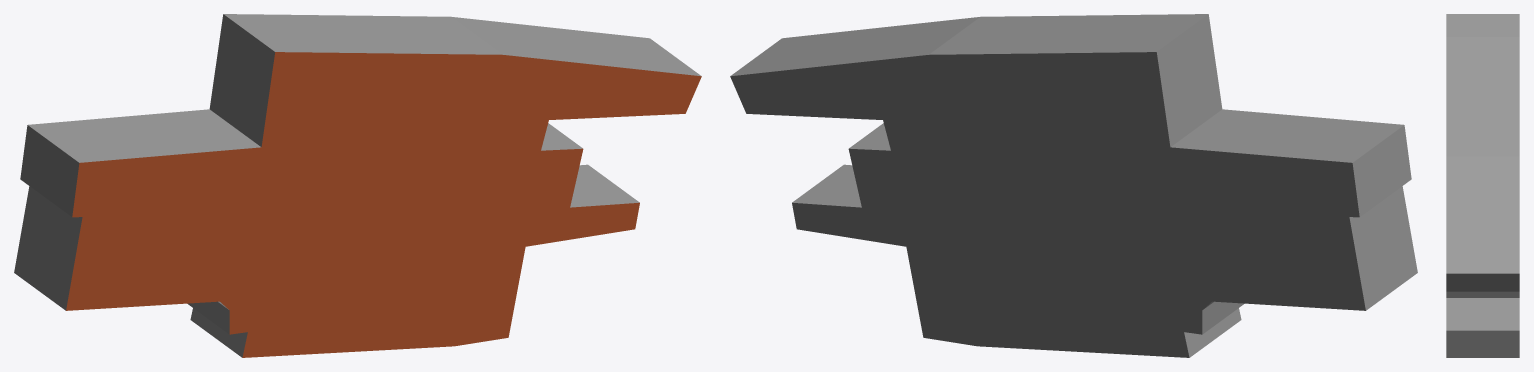
File: construction_3877_assumed_A_Casa_h6m.obj
3 renders of one model, left to right at view 1: azimuth 30°, elevation 25°; view 2: azimuth 150°, elevation 25°; view 3: azimuth 270°, elevation 25°, orthographic. The views are drawn at different scales.
Visible parts, largest first — view 1: construction_3877_assumed_A_Casa; view 2: construction_3877_assumed_A_Casa; view 3: construction_3877_assumed_A_Casa.
Part boxes in pixels (left/top/right/bottom): construction_3877_assumed_A_Casa: left=14, top=14, right=701, bottom=357; construction_3877_assumed_A_Casa: left=730, top=14, right=1417, bottom=357; construction_3877_assumed_A_Casa: left=1446, top=14, right=1519, bottom=357.
Size of the model in its own units: 42.38 by 21.83 by 6.
